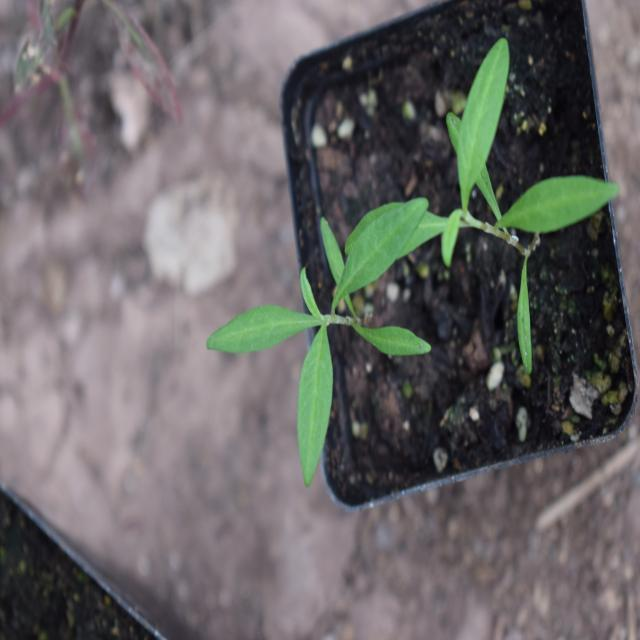white_smart_weed: (179, 134, 460, 480), (430, 28, 609, 324)
